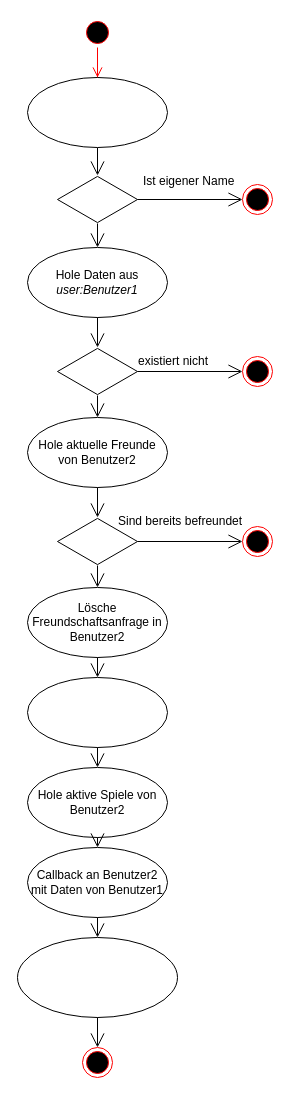
Some shapes in this 290 by 1095 pixel diagram are drawn without their labels. The shapes that lost their labels are listed below. From the top down, each one's centre as x and y in pixels, then its label:
At [97,112]: "Benutzer2 sendet accept_friend_request von Benutzer1".
At [97,712]: "Setze Benutzer in beide Freundeslisten".
At [97,977]: "friend_request_accepted an Benutzer1 mit Daten von Benutzer2".
